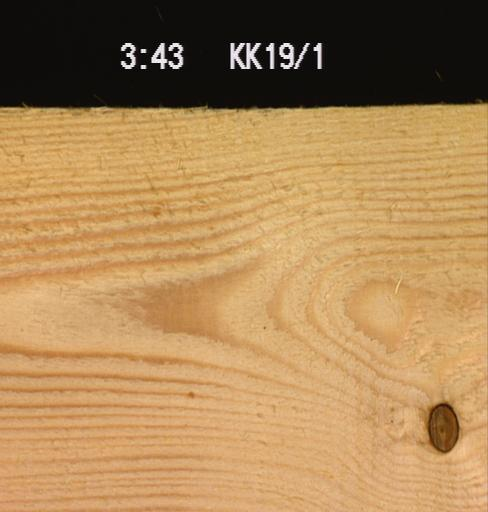dry_knot: (425, 401, 460, 454)
